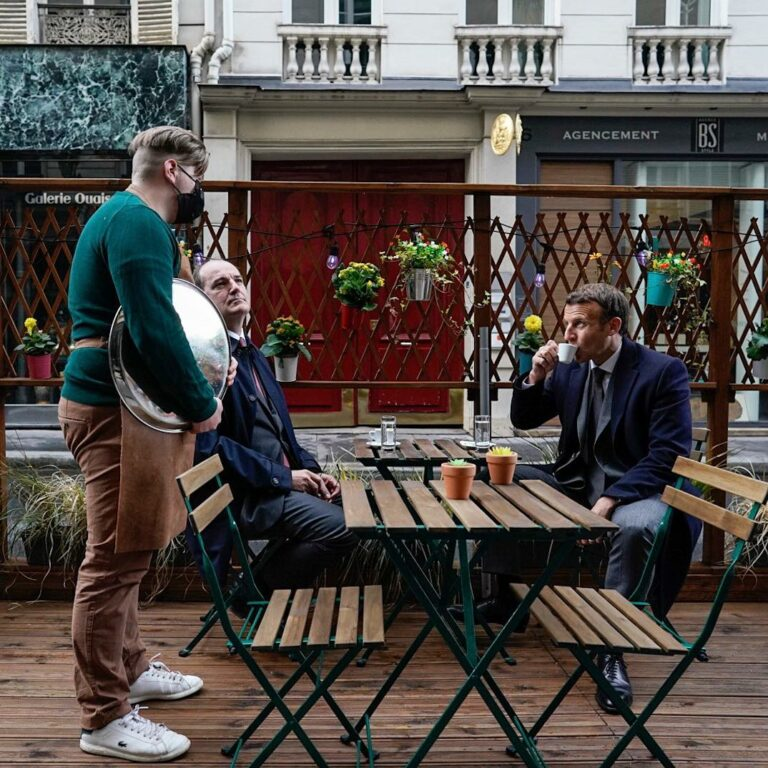with_mask: (156, 152, 208, 230)
without_mask: (556, 307, 627, 364), (202, 272, 255, 323)
